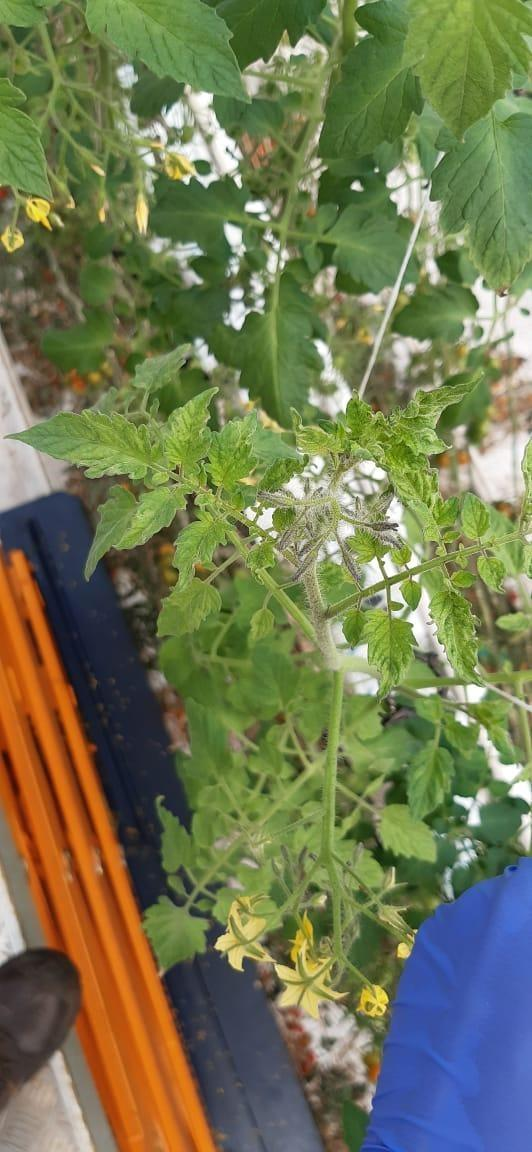Flor: (274, 916, 344, 1018), (214, 896, 272, 970), (358, 986, 389, 1017)
Hoja: (432, 101, 531, 289), (403, 0, 531, 137), (86, 0, 245, 99), (320, 36, 423, 158), (0, 79, 52, 197), (155, 578, 219, 636)
Hoja rugoso: (13, 408, 160, 478), (389, 378, 472, 453), (429, 589, 480, 682), (364, 610, 416, 699), (164, 387, 218, 472), (113, 486, 183, 549), (380, 443, 439, 514), (173, 513, 227, 588), (209, 414, 256, 490), (295, 423, 346, 453), (461, 493, 490, 539), (477, 556, 506, 591)
